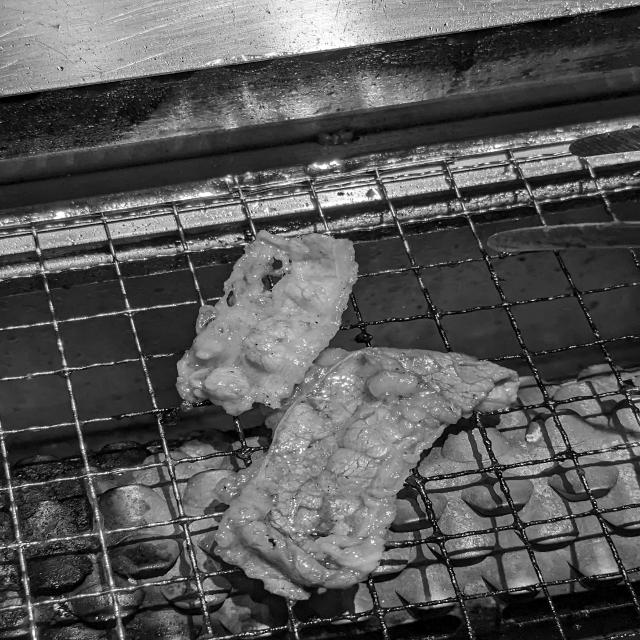OK cooked beef,: (178, 334, 547, 621), (147, 218, 400, 420)
